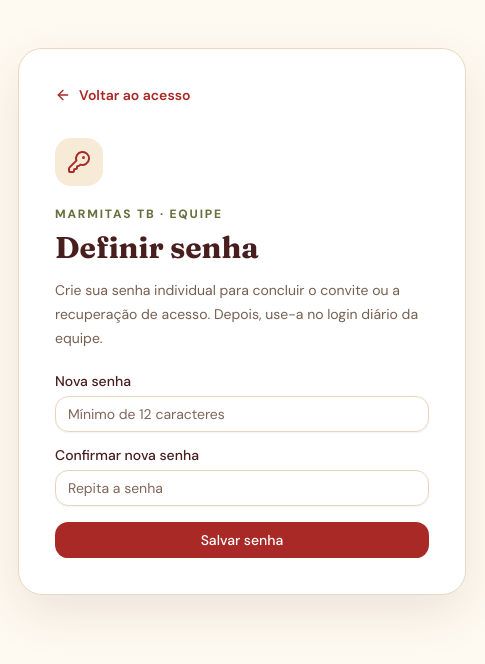
Test: SetPassword › bloqueia uma nova senha com menos de doze caracteres
The width and height of the screenshot is (485, 664).
Type "curta" into the password field labelled "Nova senha".
click(242, 414); type("curta")  # box [55,396,429,432]
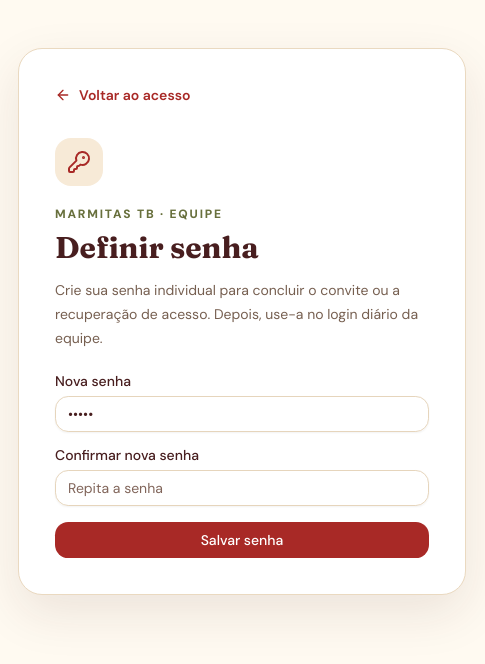
Type "curta" into the password field labelled "Confirmar nova senha".
click(242, 488); type("curta")  # box [55,470,429,506]
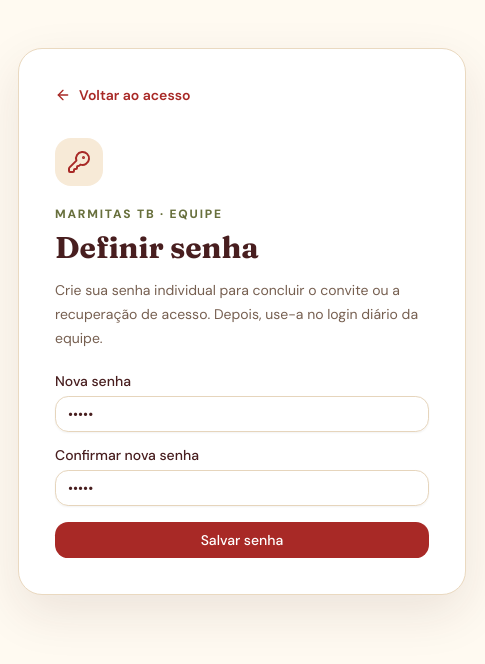
Click the button "Salvar senha".
click(242, 540)  # box [55,522,429,558]
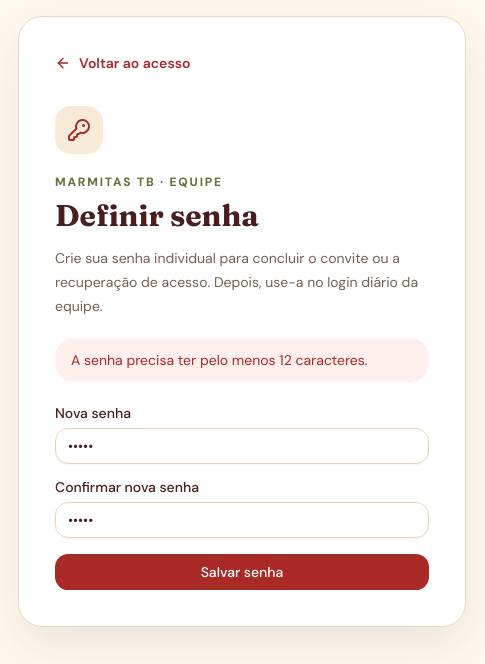
Result: the message shows "pelo menos 12 caracteres" at [71,350,368,368]
